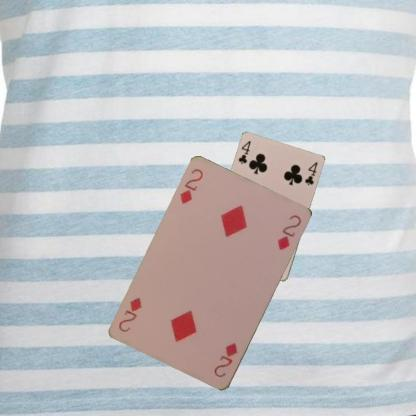2d: (211, 340, 240, 379), (177, 166, 204, 206)
4c: (236, 138, 252, 166)
